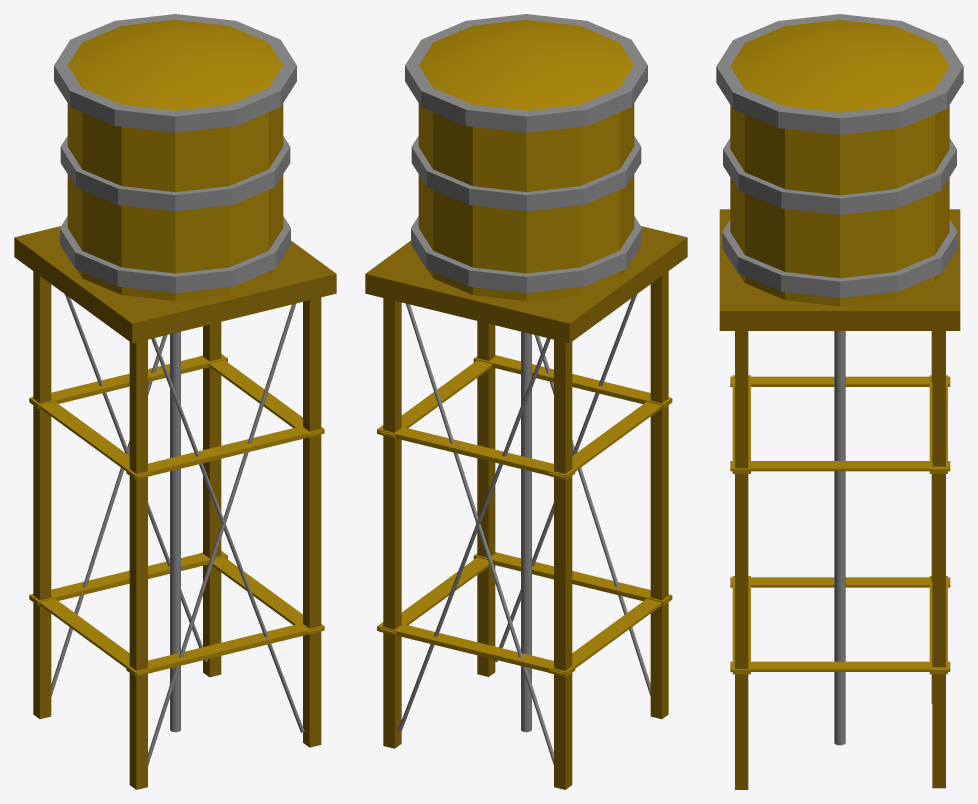
File: barrel.fbx
3 views of the same model, side by side, from view 1: azimuth 30°, elevation 25°; view 2: azimuth 150°, elevation 25°; view 3: azimuth 270°, elevation 25° (orthographic).
Parts seen in each view (by area): view 1: pCube138; view 2: pCube138; view 3: pCube138.
Boxes of the visible parts, left/top/right/bottom form: pCube138: left=14, top=14, right=336, bottom=789; pCube138: left=365, top=14, right=687, bottom=789; pCube138: left=716, top=14, right=963, bottom=789.
Bounding box in the file's own units: 37.24 × 116 × 37.24.
